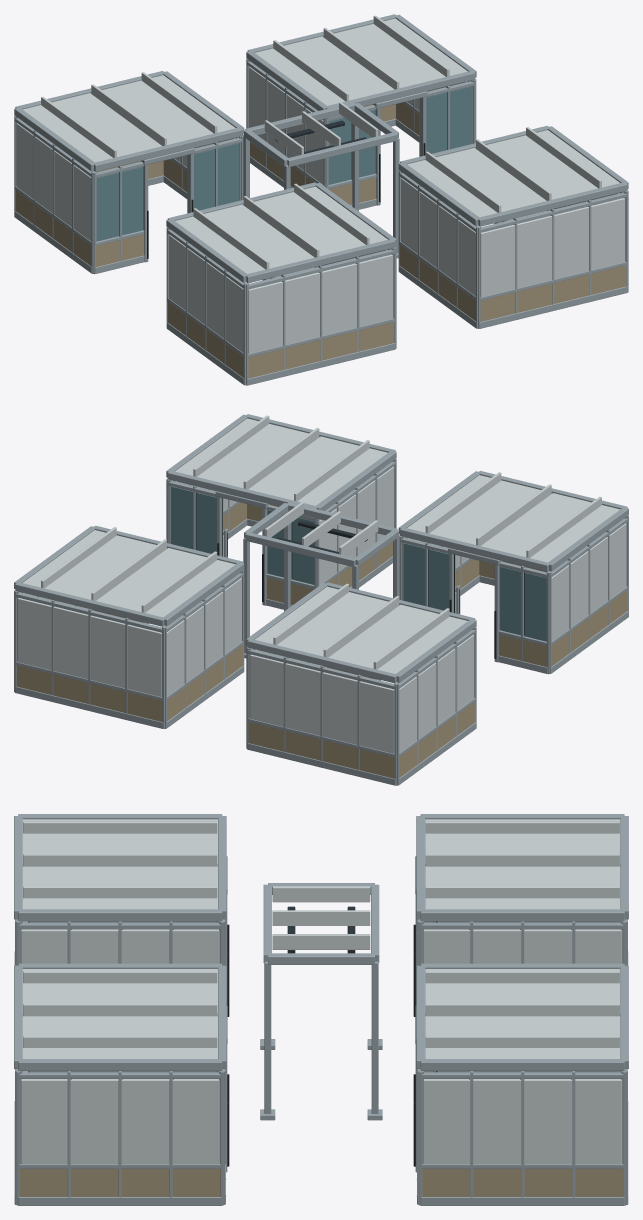
The model's file is SF_W01_Interior.fbx.
3 views of the same model, one above another, from view 1: azimuth 30°, elevation 25°; view 2: azimuth 150°, elevation 25°; view 3: azimuth 270°, elevation 25° (orthographic). The views are drawn at different scales.
Parts seen in each view (by area): view 1: SF_W01_Interior; view 2: SF_W01_Interior; view 3: SF_W01_Interior.
Boxes of the visible parts, bbox=[...] form: SF_W01_Interior: bbox=[14, 14, 628, 385]; SF_W01_Interior: bbox=[14, 414, 628, 785]; SF_W01_Interior: bbox=[14, 814, 628, 1205].
Bounding box in the file's own units: 1096 × 352 × 1146.
